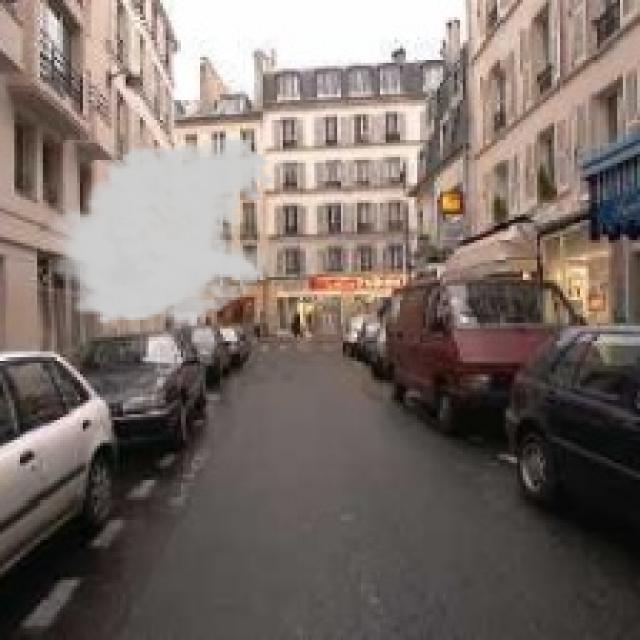smoke: (40, 134, 277, 337)
